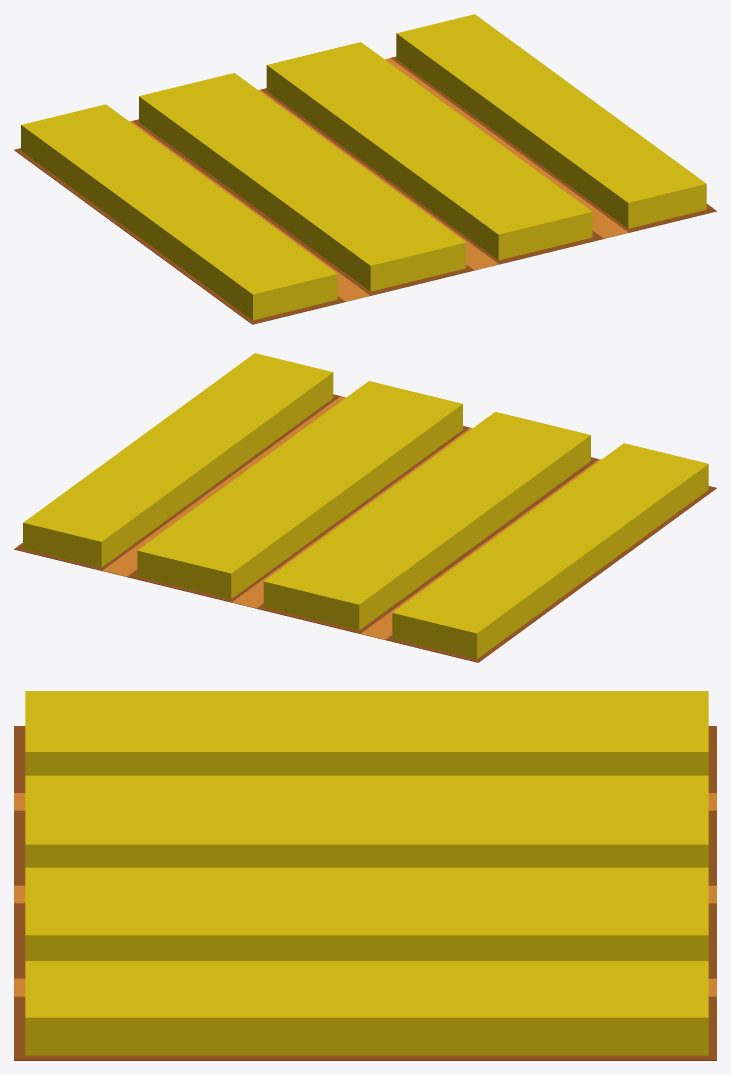
File: wheat.fbx
3 renders of one model, top to bottom at view 1: azimuth 30°, elevation 25°; view 2: azimuth 150°, elevation 25°; view 3: azimuth 270°, elevation 25°, orthographic. The views are drawn at different scales.
Parts seen in each view (by area): view 1: tomates.002; view 2: tomates.002; view 3: tomates.002.
Boxes of the visible parts, x1,y1,x2,y2 form: tomates.002: [14, 14, 716, 324]; tomates.002: [14, 353, 716, 662]; tomates.002: [14, 691, 716, 1060].
Bounding box in the file's own units: 10.99 × 9.77 × 0.5946.
